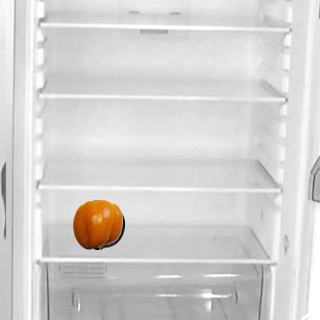Apple Braeburn: (74, 199, 124, 249)
Pepper Yellow: (72, 199, 122, 249)
